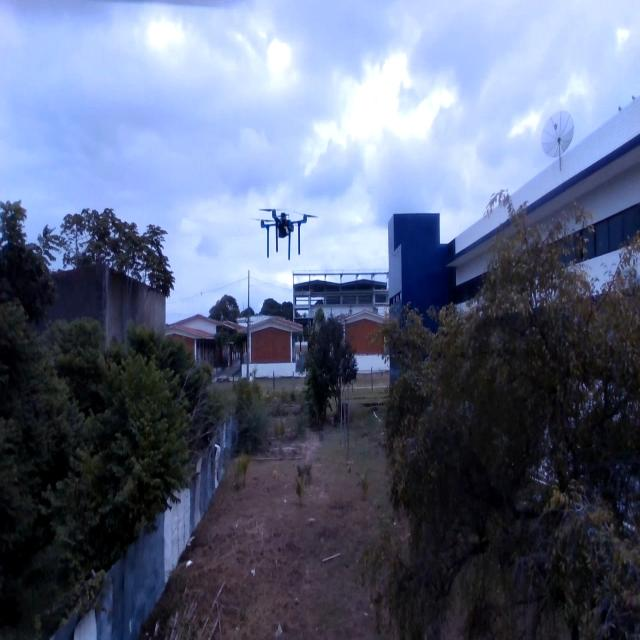-uav-: (252, 188, 320, 280)
